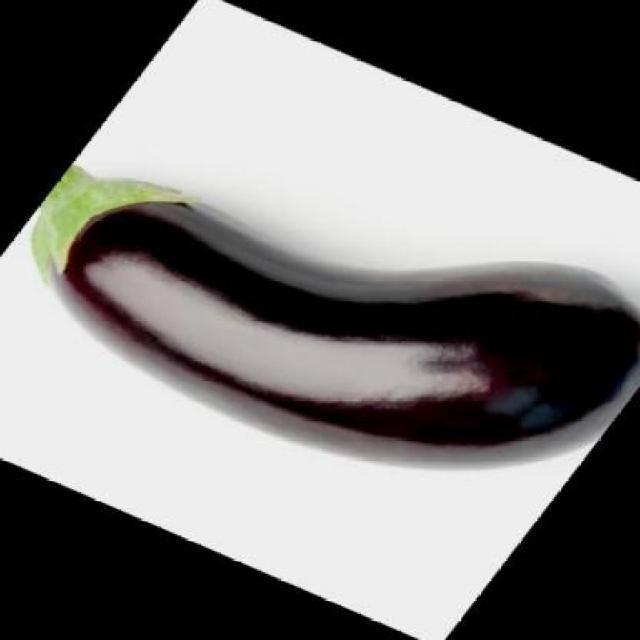eggplant: (7, 150, 640, 458)
